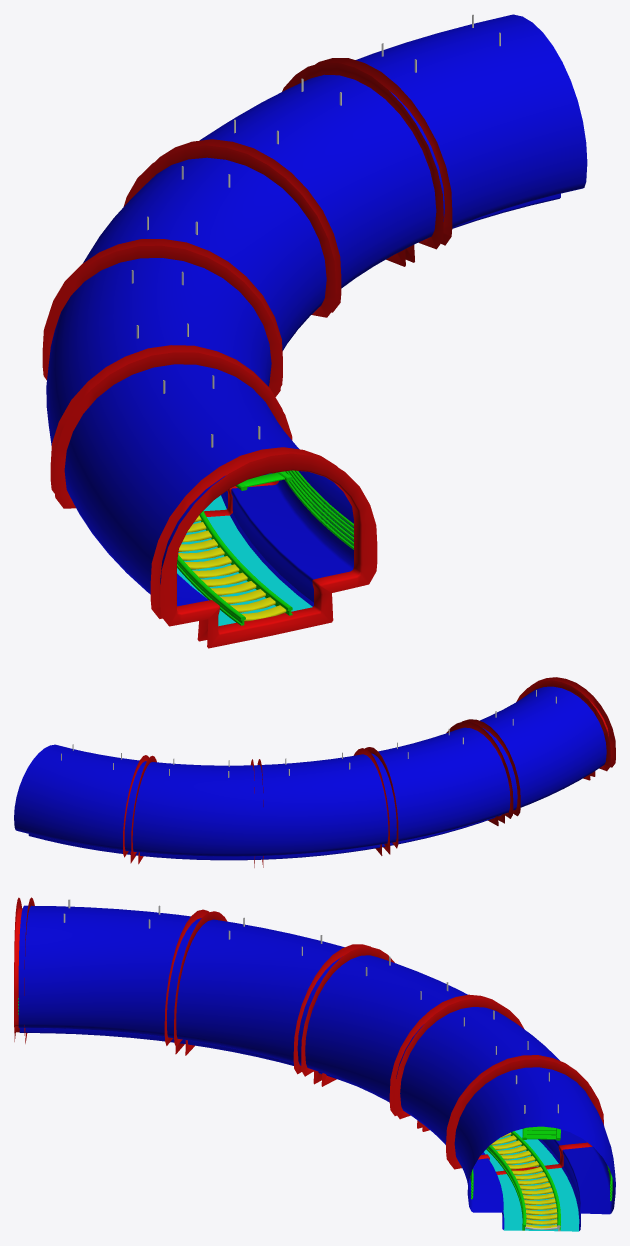
The model's file is subway_bend_low.fbx.
3 renders of one model, top to bottom at view 1: azimuth 30°, elevation 25°; view 2: azimuth 150°, elevation 25°; view 3: azimuth 270°, elevation 25°, orthographic. The views are drawn at different scales.
Parts seen in each view (by area): view 1: right_turn_low; view 2: right_turn_low; view 3: right_turn_low.
Boxes of the visible parts, left/top/right/bottom form: right_turn_low: left=42, top=14, right=587, bottom=648; right_turn_low: left=14, top=677, right=615, bottom=867; right_turn_low: left=14, top=897, right=615, bottom=1231.
Bounding box in the file's own units: 2397 × 540 × 2438.
